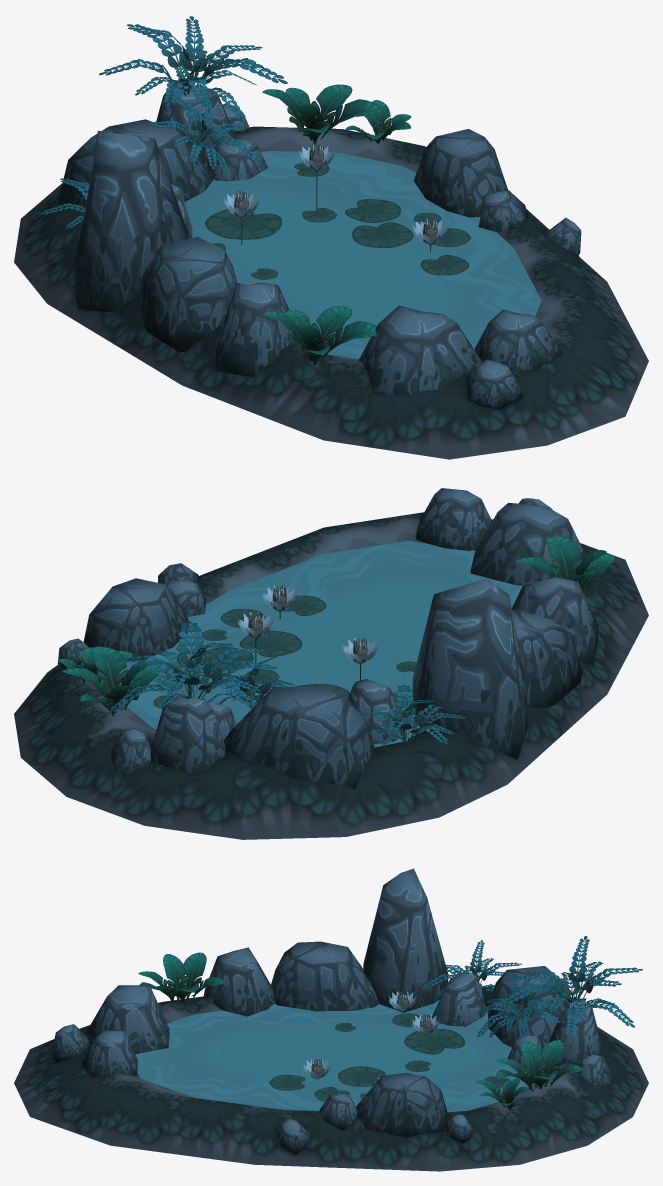
Rendered from VillagePond.FBX.
The picture shows the model from 3 angles, top to bottom: view 1: azimuth 30°, elevation 25°; view 2: azimuth 150°, elevation 25°; view 3: azimuth 270°, elevation 25°; orthographic projection. The views are drawn at different scales.
Visible parts, largest first — view 1: Pond, Line1425, Line1429, Line1427, Line1426, Line1430, Line1428; view 2: Pond, Line1425, Line1429, Line1427, Line1426, Line1424, Line1430, Line1428; view 3: Pond, Line1425, Line1429, Line1427, Line1426, Line1430, Line1424, Line1428.
Boxes of the visible parts, left/top/right/bottom form: Pond: left=14, top=84, right=648, bottom=459; Line1425: left=205, top=143, right=470, bottom=279; Line1429: left=99, top=16, right=287, bottom=122; Line1427: left=262, top=84, right=382, bottom=144; Line1426: left=262, top=306, right=377, bottom=365; Line1430: left=150, top=93, right=262, bottom=179; Line1428: left=345, top=100, right=411, bottom=143; Pond: left=14, top=488, right=648, bottom=839; Line1425: left=153, top=585, right=416, bottom=708; Line1429: left=107, top=621, right=277, bottom=714; Line1427: left=62, top=646, right=160, bottom=716; Line1426: left=516, top=536, right=615, bottom=591; Line1424: left=360, top=685, right=465, bottom=745; Line1430: left=201, top=656, right=297, bottom=709; Line1428: left=58, top=647, right=132, bottom=684; Pond: left=14, top=868, right=648, bottom=1171; Line1425: left=269, top=991, right=510, bottom=1101; Line1429: left=501, top=936, right=642, bottom=1038; Line1427: left=496, top=1040, right=582, bottom=1090; Line1426: left=138, top=952, right=224, bottom=1002; Line1430: left=476, top=972, right=559, bottom=1037; Line1424: left=422, top=940, right=521, bottom=999; Line1428: left=475, top=1078, right=529, bottom=1110.
Size of the model in its own units: 255 by 93.76 by 387.
